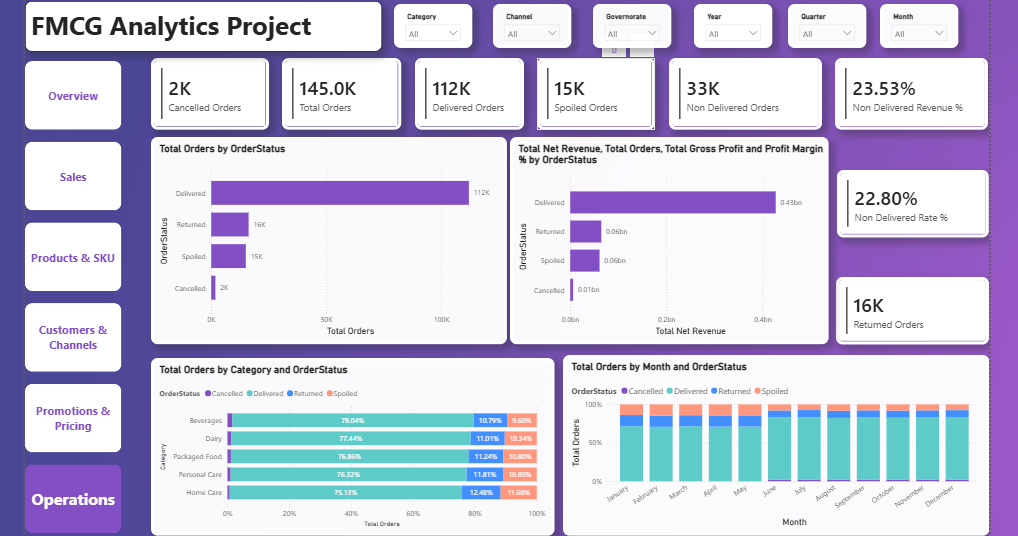

The dashboard page shown, as its layout file describes it:
{"tool":"powerbi","page":{"name":"Operations","canvas":[1600,900],"ordinal":5},"visuals":[{"type":"cardVisual","fields":{"Data":["_Measures.Total Orders"]},"box":[427,106.1,197.6,118.9],"z":0},{"type":"cardVisual","fields":{"Data":["_Measures.Delivered Orders"]},"box":[647.2,106.1,181.1,118.9],"z":1000},{"type":"cardVisual","fields":{"Data":["_Measures.Cancelled Orders"]},"box":[208.5,106.1,195.7,118.9],"z":2000},{"type":"cardVisual","fields":{"Data":["_Measures.Spoiled Orders"]},"box":[851,106.1,195.7,118.9],"z":3000},{"type":"cardVisual","fields":{"Data":["_Measures.Returned Orders"]},"box":[1346.3,470.1,254.3,111.6],"z":4000},{"type":"cardVisual","fields":{"Data":["_Measures.Non Delivered Orders"]},"box":[1069.4,106.1,254.3,118.9],"z":5000},{"type":"clusteredBarChart","fields":{"Category":["fact_sales.OrderStatus"],"Y":["_Measures.Total Orders"]},"box":[208.5,237.8,590.9,343.9],"z":6000},{"type":"clusteredBarChart","fields":{"Category":["fact_sales.OrderStatus"],"Y":["_Measures.Total Net Revenue"]},"box":[804.9,237.8,528.7,343.9],"z":7000},{"type":"hundredPercentStackedBarChart","fields":{"Category":["dim_products.Category"],"Series":["fact_sales.OrderStatus"],"Y":["_Measures.Total Orders"]},"box":[208.5,603.7,669.5,294.5],"z":8000},{"type":"hundredPercentStackedColumnChart","fields":{"Category":["dim_calender.Month"],"Series":["fact_sales.OrderStatus"],"Y":["_Measures.Total Orders"]},"box":[892.7,600,707.9,300],"z":9000},{"type":"cardVisual","fields":{"Data":["_Measures.Non Delivered Revenue %"]},"box":[1345.7,106.1,254.3,118.9],"z":10000},{"type":"slicer","fields":{"Values":["dim_calender.Year"]},"box":[1110.4,16.5,130.2,73.2],"z":10001},{"type":"slicer","fields":{"Values":["dim_calender.Quarter"]},"box":[1267.7,16.5,130.2,73.2],"z":10002},{"type":"slicer","fields":{"Values":["dim_calender.Month"]},"box":[1419.5,16.5,130.2,73.2],"z":10003},{"type":"slicer","fields":{"Values":["dim_customers.Governorate"]},"box":[943.9,16.5,130.2,73.2],"z":10004},{"type":"slicer","fields":{"Values":["dim_channels.ChannelName"]},"box":[777.4,16.5,130.2,73.2],"z":10005},{"type":"slicer","fields":{"Values":["dim_products.Category"]},"box":[612.8,16.5,130.2,73.2],"z":10006},{"type":"textbox","box":[0,11,592.7,84.1],"z":10007},{"type":"cardVisual","fields":{"Data":["_Measures.Non Delivered Rate %"]},"box":[1348.2,291.8,252.4,111.6],"z":10008},{"type":"pageNavigator","box":[0,111.6,161,786.6],"z":10009}]}

Visuals, with their boxes in screenshot pixels (x1, y1, x2, y2):
cardVisual - _Measures.Total Orders: [281, 54, 401, 126]
cardVisual - _Measures.Delivered Orders: [415, 54, 525, 126]
cardVisual - _Measures.Cancelled Orders: [148, 54, 267, 126]
cardVisual - _Measures.Spoiled Orders: [539, 54, 658, 126]
cardVisual - _Measures.Returned Orders: [840, 275, 995, 343]
cardVisual - _Measures.Non Delivered Orders: [672, 54, 826, 126]
clusteredBarChart - fact_sales.OrderStatus x _Measures.Total Orders: [148, 134, 508, 343]
clusteredBarChart - fact_sales.OrderStatus x _Measures.Total Net Revenue: [511, 134, 833, 343]
hundredPercentStackedBarChart - dim_products.Category x fact_sales.OrderStatus: [148, 357, 555, 535]
hundredPercentStackedColumnChart - dim_calender.Month x fact_sales.OrderStatus: [564, 354, 995, 535]
cardVisual - _Measures.Non Delivered Revenue %: [840, 54, 995, 126]
slicer - dim_calender.Year: [697, 0, 776, 44]
slicer - dim_calender.Quarter: [792, 0, 872, 44]
slicer - dim_calender.Month: [885, 0, 964, 44]
slicer - dim_customers.Governorate: [595, 0, 675, 44]
slicer - dim_channels.ChannelName: [494, 0, 573, 44]
slicer - dim_products.Category: [394, 0, 473, 44]
textbox: [21, 0, 382, 47]
cardVisual - _Measures.Non Delivered Rate %: [841, 167, 995, 235]
pageNavigator: [21, 57, 119, 535]
